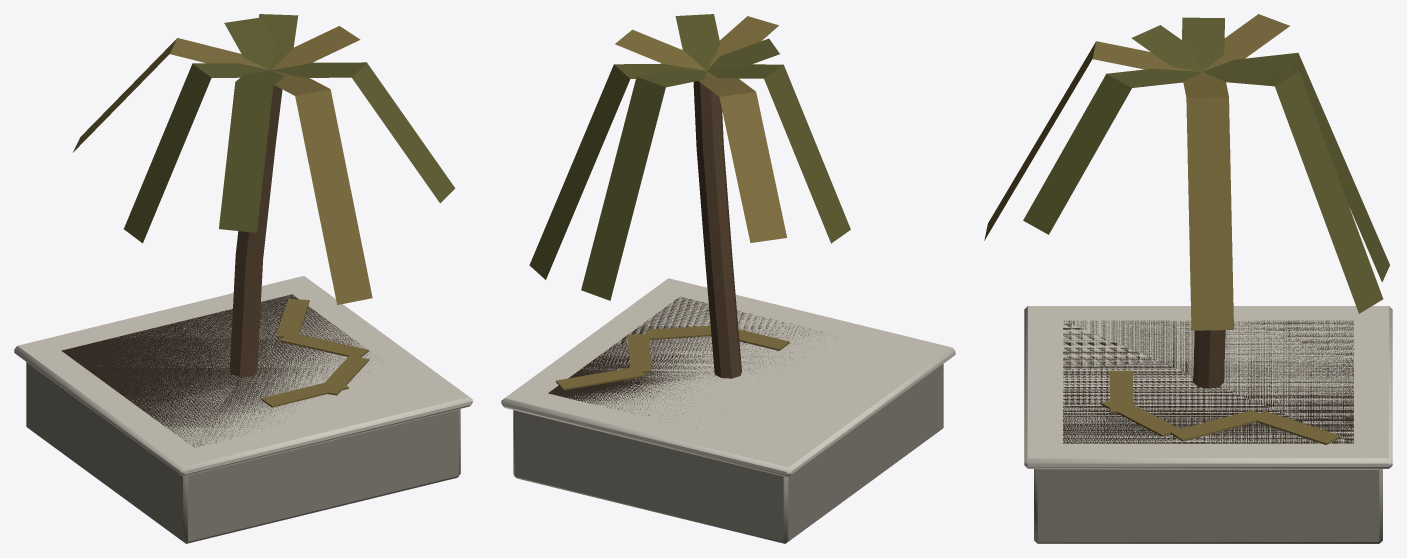
File: planter_bench.glb
3 renders of one model, left to right at view 1: azimuth 30°, elevation 25°; view 2: azimuth 150°, elevation 25°; view 3: azimuth 270°, elevation 25°, orthographic. The views are drawn at different scales.
Visible parts, largest first — view 1: PlanterBench; view 2: PlanterBench; view 3: PlanterBench.
Boxes of the visible parts, x1,y1,x2,y2 form: PlanterBench: (14, 14, 472, 543); PlanterBench: (501, 14, 955, 543); PlanterBench: (984, 14, 1392, 543).
Bounding box in the file's own units: 2.17 × 2.45 × 2.11.
